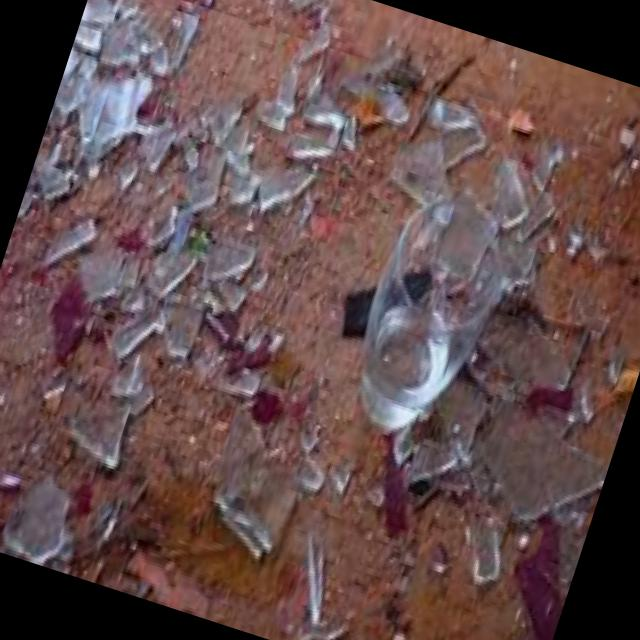PecahanKaca: (0, 0, 640, 640), (332, 176, 532, 457)
